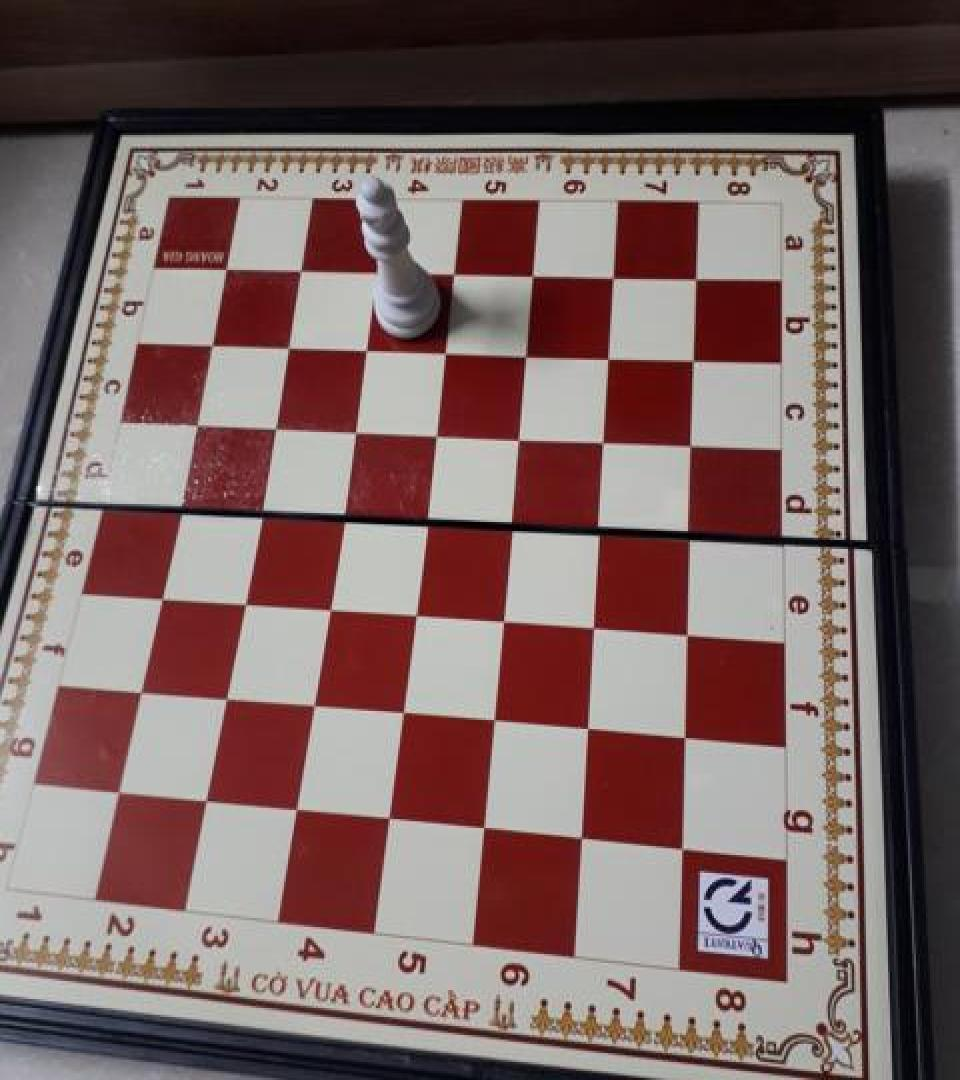xcorner: (227, 581, 259, 618), (125, 669, 157, 706), (468, 806, 500, 843), (373, 797, 405, 834), (104, 770, 136, 807), (677, 263, 709, 299), (595, 261, 627, 297), (515, 259, 547, 295), (437, 256, 469, 292), (360, 254, 392, 290), (285, 252, 317, 288), (212, 251, 244, 287), (675, 342, 707, 378), (591, 338, 623, 374), (508, 336, 540, 372), (428, 333, 460, 369), (349, 331, 381, 367), (272, 328, 304, 364), (196, 324, 228, 360), (673, 426, 705, 462), (586, 423, 618, 459), (501, 418, 533, 454), (418, 414, 450, 450), (337, 410, 369, 446), (258, 407, 290, 443), (180, 403, 212, 439), (671, 516, 703, 552), (581, 512, 613, 548), (494, 506, 526, 542), (408, 500, 440, 536), (324, 496, 356, 532), (243, 492, 275, 528), (163, 486, 195, 522), (669, 613, 701, 649), (576, 606, 608, 642), (486, 600, 518, 636), (397, 593, 429, 629), (311, 587, 343, 623), (144, 575, 176, 611), (666, 716, 698, 752), (570, 708, 602, 744), (477, 700, 509, 736), (386, 692, 418, 728), (297, 684, 329, 720), (210, 677, 242, 713), (664, 827, 696, 863), (564, 817, 596, 853), (281, 788, 313, 824), (191, 780, 223, 816)
